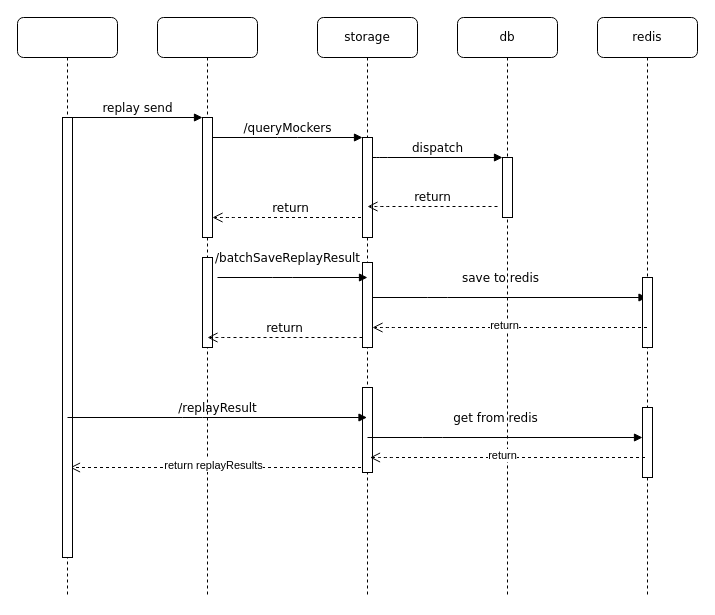
This 715x615 diagram has some shape labels left out. The shapes that lost their labels are listed below. From the top down, each one's box as (x1, y1, x2, y2) in pixels, then its label:
(16, 16, 118, 598): schedule
(156, 16, 258, 598): agent
